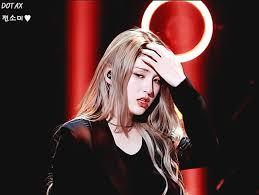earphone: (106, 69, 114, 80)
